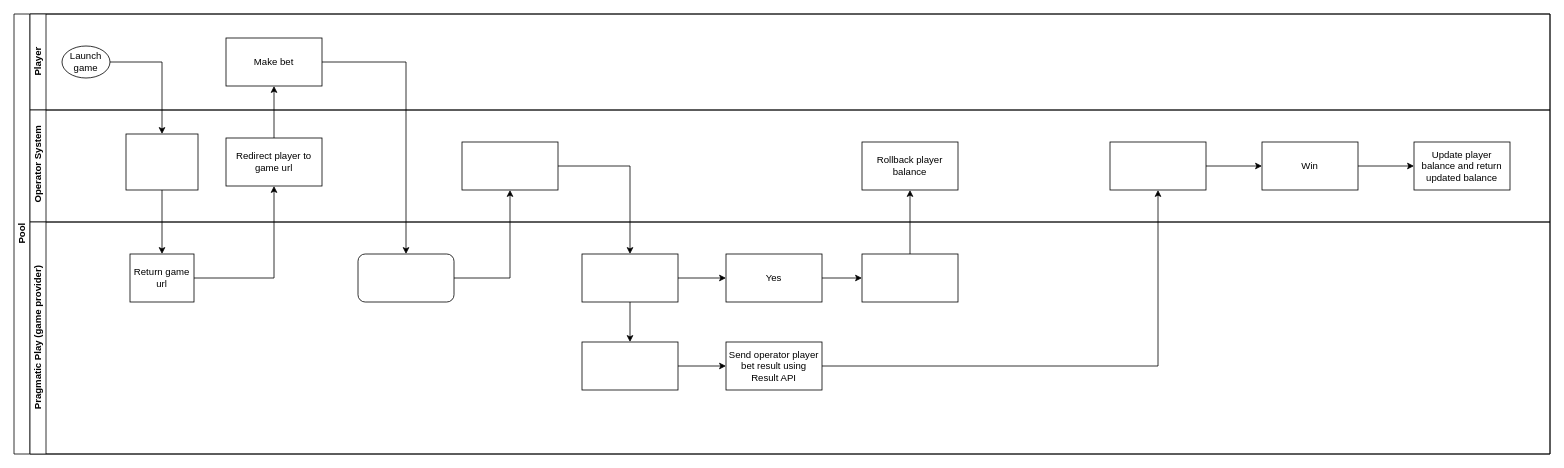
Some shapes in this 1564 by 468 pixel diagram are drawn without their labels. The shapes that lost their labels are listed below. From the top down, each one's centre as x and y in pixels, then its label:
At point 161,161: "Request game url using GameURL API method".
At point 509,165: "Deduct player balance and return player balance".
At point 1157,165: "Result ?".
At point 405,277: "Request player balance from operator system using Bet API method".
At point 629,277: "Refund ?".
At point 909,277: "Call Refund API method".
At point 629,365: "No".
